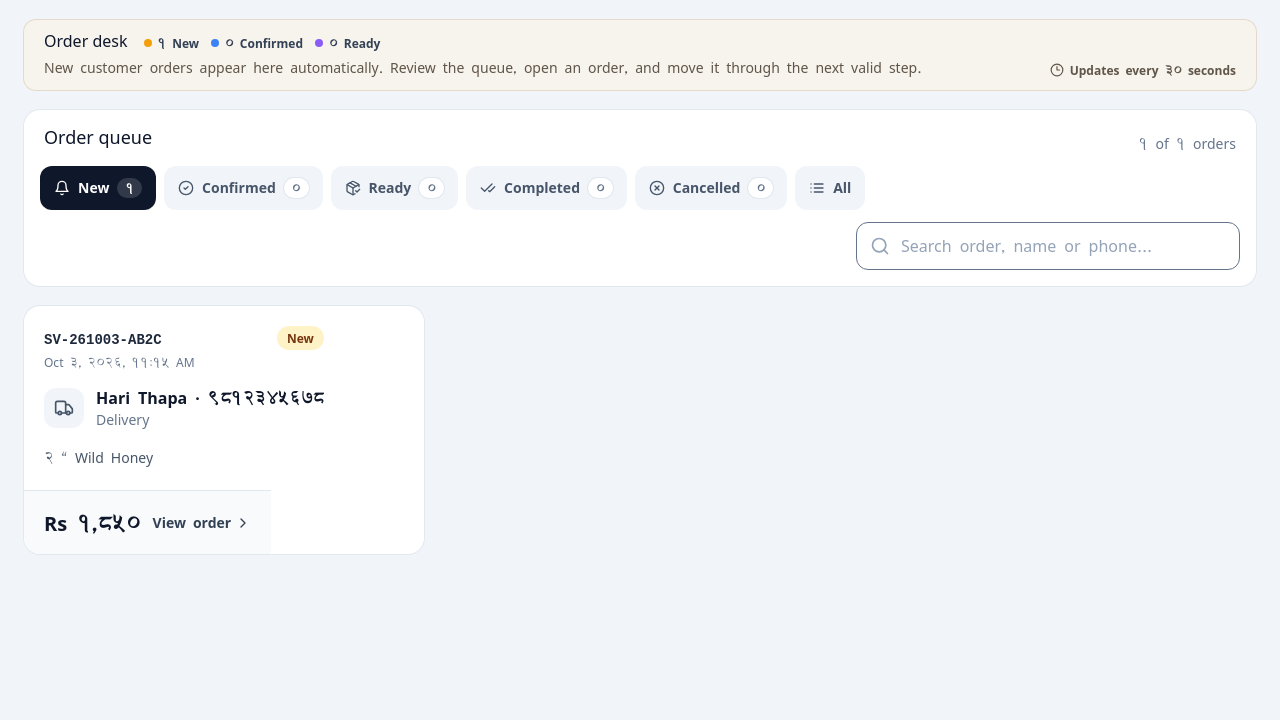
Test case: OnlineOrdersPage › moves a new order to confirmed, and offers only the next steps
Step 1. Click the button with test id "order-row" → (103, 340), box [24, 306, 424, 554]
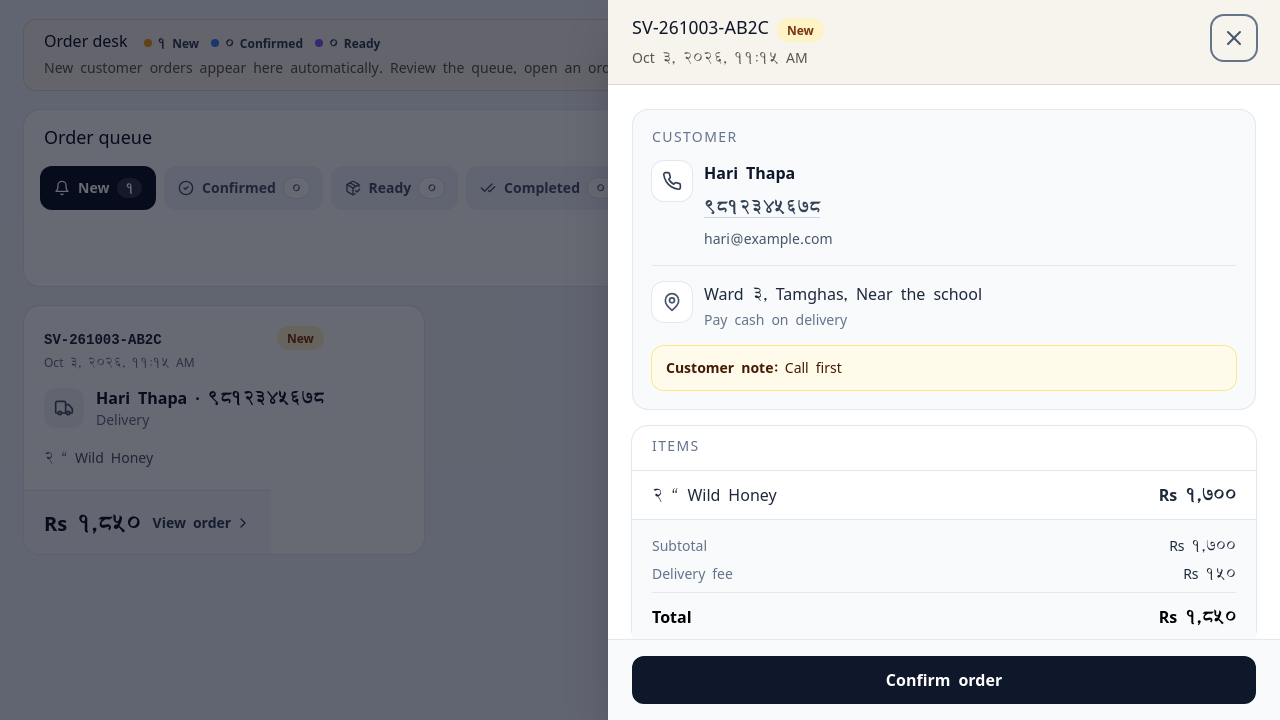
Check: the button "Complete (paid)" is not shown
Step 2. Click the button "Confirm order" → (944, 680), box [632, 656, 1256, 704]
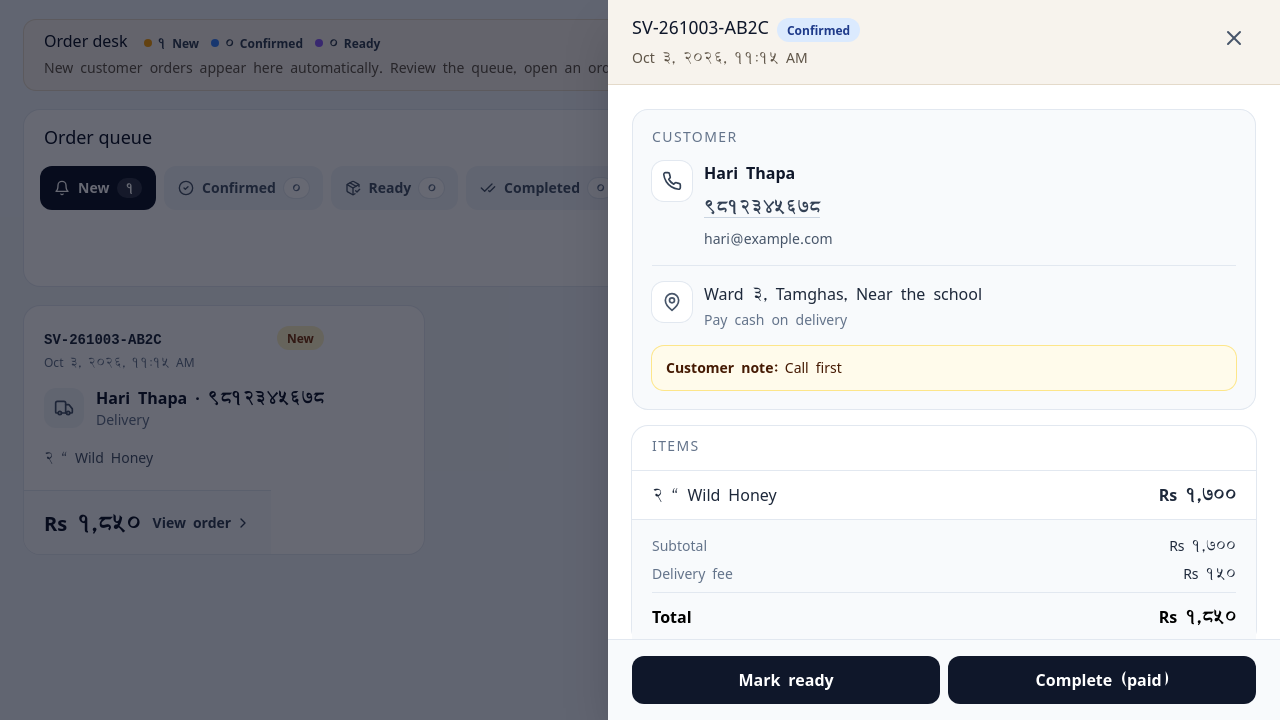
Check: the button "Mark ready" is shown, box [632, 656, 940, 704]
Check: the button "Complete (paid)" is shown, box [948, 656, 1256, 704]
